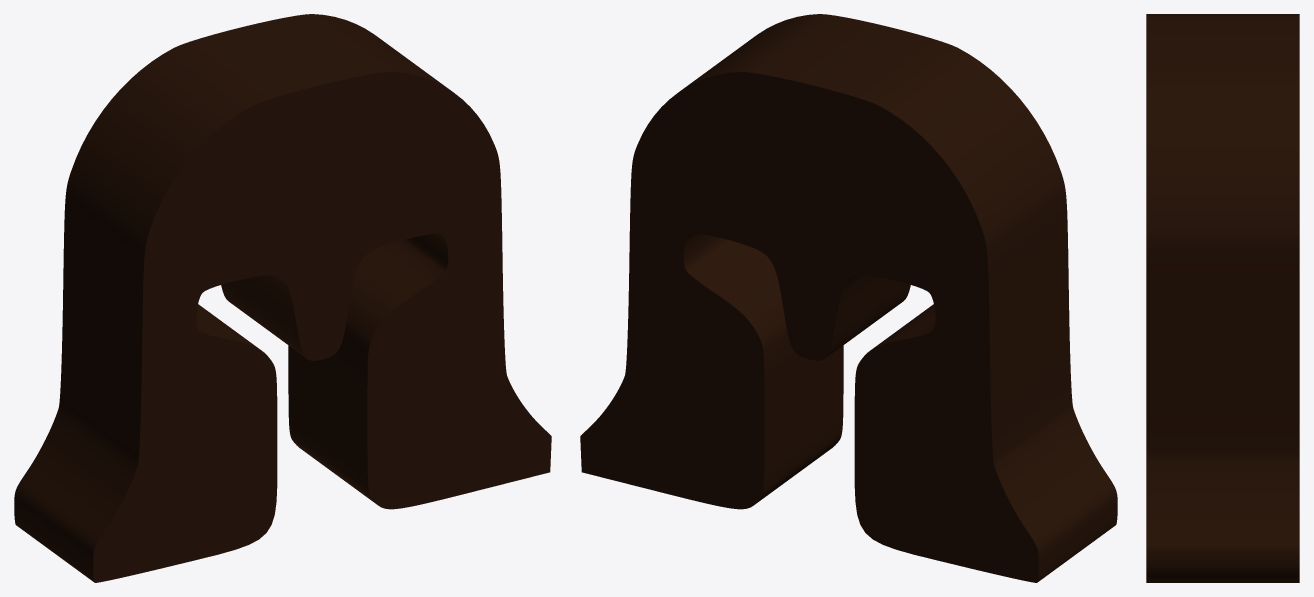
Rendered from Helm.obj.
3 views of the same model, side by side, from view 1: azimuth 30°, elevation 25°; view 2: azimuth 150°, elevation 25°; view 3: azimuth 270°, elevation 25° (orthographic). The views are drawn at different scales.
Visible parts, largest first — view 1: Curve.003_path3743; view 2: Curve.003_path3743; view 3: Curve.003_path3743.
Boxes of the visible parts, box(x1,y1,x2,y2) form: Curve.003_path3743: box(14, 14, 551, 582); Curve.003_path3743: box(580, 14, 1117, 582); Curve.003_path3743: box(1146, 14, 1299, 582).
Bounding box in the file's own units: 0.5361 × 0.4968 × 0.16.
